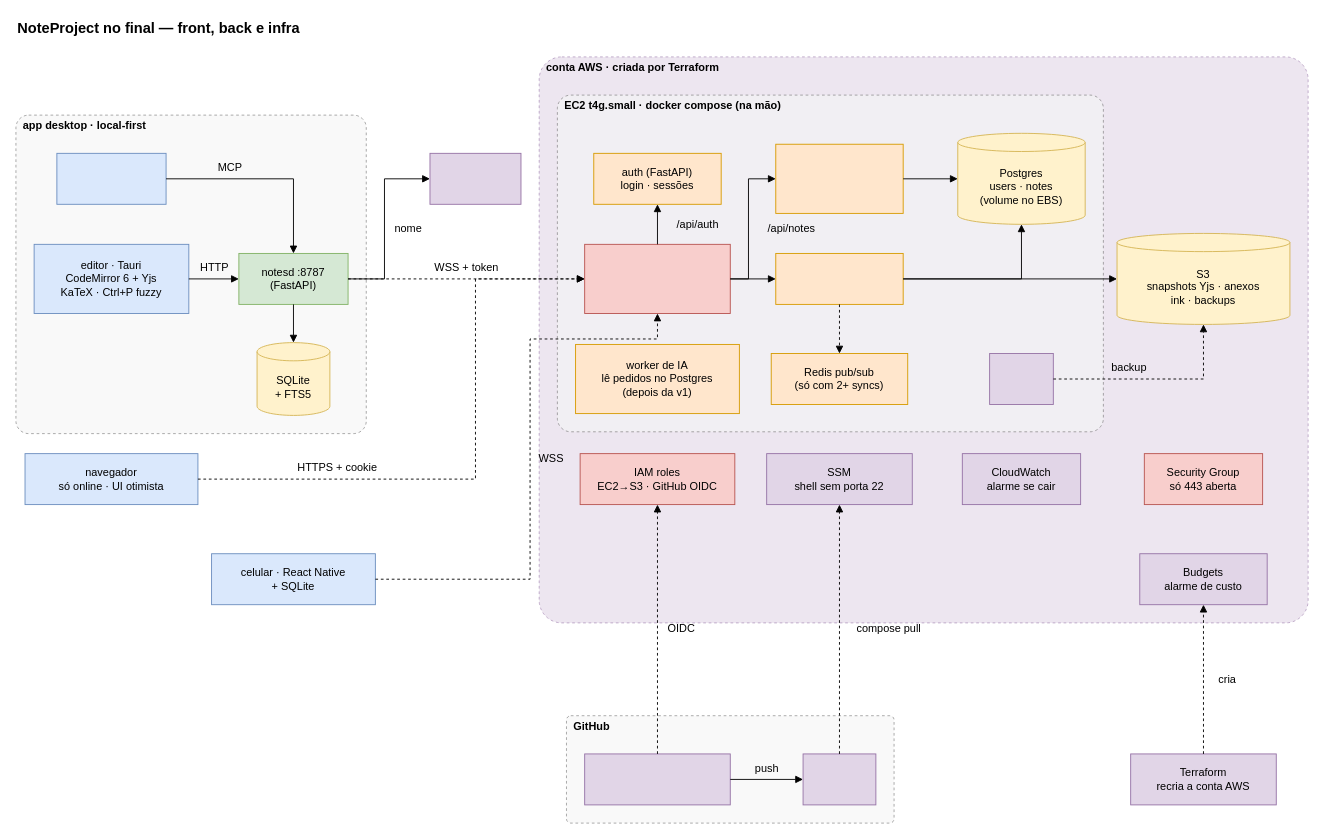
Some shapes in this 1324 by 839 pixel diagram are drawn without their labels. Each missing label, with the centre of its shape:
"Caddy :443 Let's Encrypt app · /api · /sync" belongs at point (657, 278).
"Claude Code (cliente MCP)" belongs at point (111, 178).
"cron pg_dump" belongs at point (1021, 378).
"DNS Cloudflare" belongs at point (475, 178).
"GHCR imagens" belongs at point (839, 779).
"GitHub Actions make check · build" belongs at point (657, 779).
"ichiro (FastAPI) notas · busca build do front" belongs at point (839, 178).
"sync WebSocket + y-py" belongs at point (839, 278).
